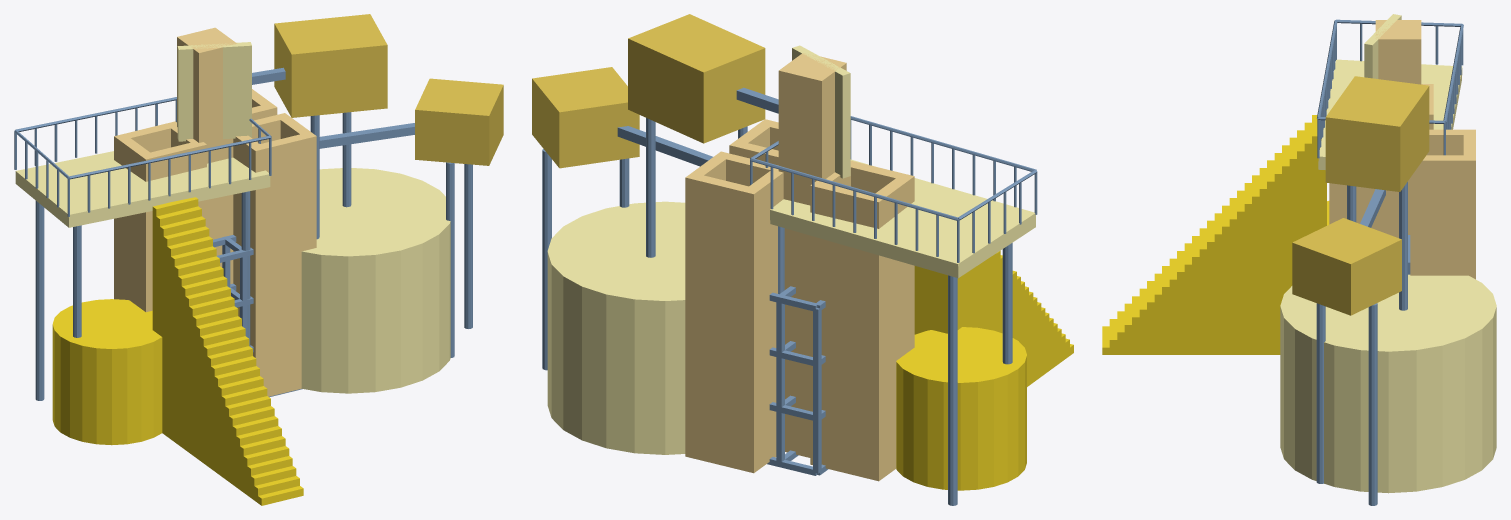
Rendered from folie_tag_145.glb.
3 renders of one model, left to right at view 1: azimuth 30°, elevation 25°; view 2: azimuth 150°, elevation 25°; view 3: azimuth 270°, elevation 25°, orthographic. The views are drawn at different scales.
Parts seen in each view (by area): view 1: folie_tag_145_00_drum, folie_tag_145_stairs, folie_tag_145_03_tower, folie_tag_145_06_drum, folie_tag_145_line, folie_tag_145_05_block, folie_tag_145_01_plate, folie_tag_145_04_tower, folie_tag_145_09_block, folie_tag_145_core, folie_tag_145_08_panel, folie_tag_145_02_cage; view 2: folie_tag_145_00_drum, folie_tag_145_07_tower, folie_tag_145_04_tower, folie_tag_145_06_drum, folie_tag_145_line, folie_tag_145_05_block, folie_tag_145_core, folie_tag_145_01_plate, folie_tag_145_stairs, folie_tag_145_09_block, folie_tag_145_02_cage, folie_tag_145_08_panel (+1 smaller); view 3: folie_tag_145_00_drum, folie_tag_145_stairs, folie_tag_145_05_block, folie_tag_145_07_tower, folie_tag_145_09_block, folie_tag_145_line, folie_tag_145_core, folie_tag_145_01_plate, folie_tag_145_03_tower, folie_tag_145_08_panel.
Boxes of the visible parts, x1,y1,x2,y2 form: folie_tag_145_00_drum: (301,168,450,393); folie_tag_145_stairs: (152,197,303,505); folie_tag_145_03_tower: (233,113,316,396); folie_tag_145_06_drum: (52,299,162,445); folie_tag_145_line: (14,67,472,400); folie_tag_145_05_block: (274,14,387,117); folie_tag_145_01_plate: (15,151,270,227); folie_tag_145_04_tower: (114,121,206,312); folie_tag_145_09_block: (415,78,503,165); folie_tag_145_core: (177,27,237,284); folie_tag_145_08_panel: (177,42,251,141); folie_tag_145_02_cage: (213,235,302,397); folie_tag_145_00_drum: (547,201,685,454); folie_tag_145_07_tower: (685,151,783,473); folie_tag_145_04_tower: (810,161,914,481); folie_tag_145_06_drum: (896,327,1026,490); folie_tag_145_line: (542,87,1037,505); folie_tag_145_05_block: (628,14,765,143); folie_tag_145_core: (778,53,846,457); folie_tag_145_01_plate: (770,159,1035,278); folie_tag_145_stairs: (914,250,1073,386); folie_tag_145_09_block: (532,67,639,168); folie_tag_145_02_cage: (767,286,828,475); folie_tag_145_08_panel: (792,45,850,178); folie_tag_145_00_drum: (1280,274,1496,493); folie_tag_145_stairs: (1102,110,1326,354); folie_tag_145_05_block: (1325,76,1429,191); folie_tag_145_07_tower: (1410,129,1475,279); folie_tag_145_09_block: (1292,218,1401,315); folie_tag_145_line: (1316,19,1463,505); folie_tag_145_core: (1375,20,1421,237); folie_tag_145_01_plate: (1318,59,1462,169); folie_tag_145_03_tower: (1329,183,1394,236); folie_tag_145_08_panel: (1364,14,1401,78).
Size of the model in its own units: 12.68 by 9.33 by 9.48.
